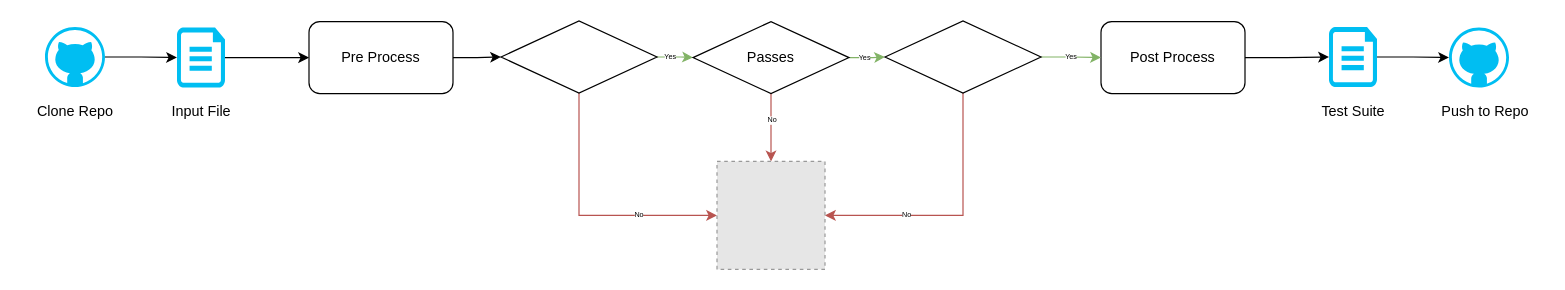
Image size: 1565x290. Some labels were removed from this diagram. Grey dashed boxes stand in for pictures. The centre of each missing label's shape, as x and y in pixels:
Build: (x=578, y=56)
Improves Coverage: (x=962, y=56)
